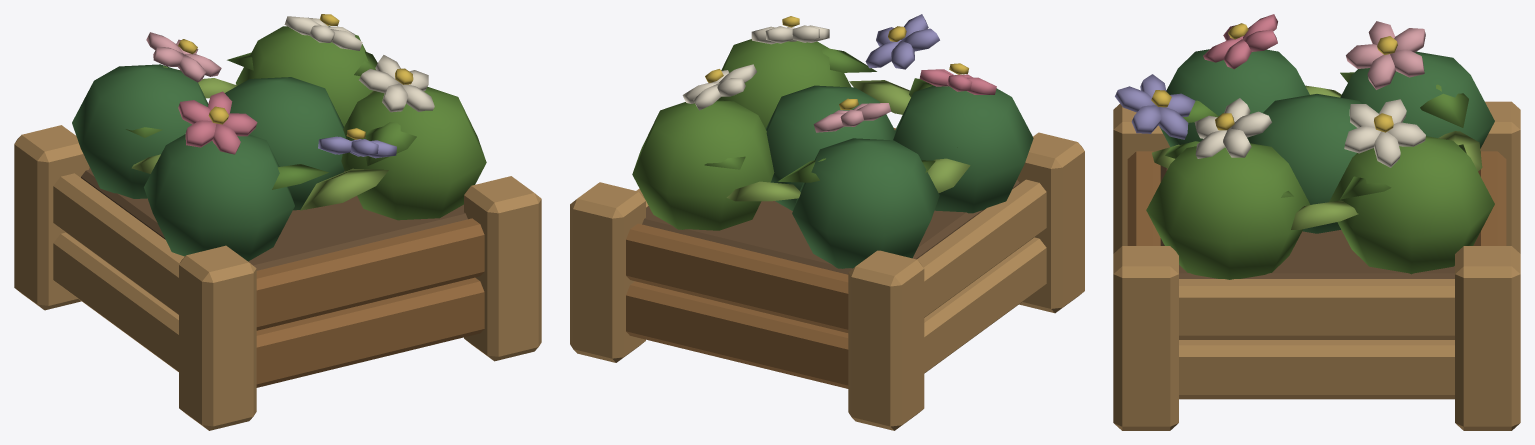
The model's file is deco_planter.glb.
The picture shows the model from 3 angles, left to right: view 1: azimuth 30°, elevation 25°; view 2: azimuth 150°, elevation 25°; view 3: azimuth 270°, elevation 25°; orthographic projection. The views are drawn at different scales.
Visible parts, largest first — view 1: deco_planter; view 2: deco_planter; view 3: deco_planter.
Part boxes in pixels (<box>): deco_planter: <box>14,14,541,430</box>; deco_planter: <box>570,14,1084,430</box>; deco_planter: <box>1113,14,1520,430</box>.
Size of the model in its own units: 0.56 by 0.4271 by 0.56.
